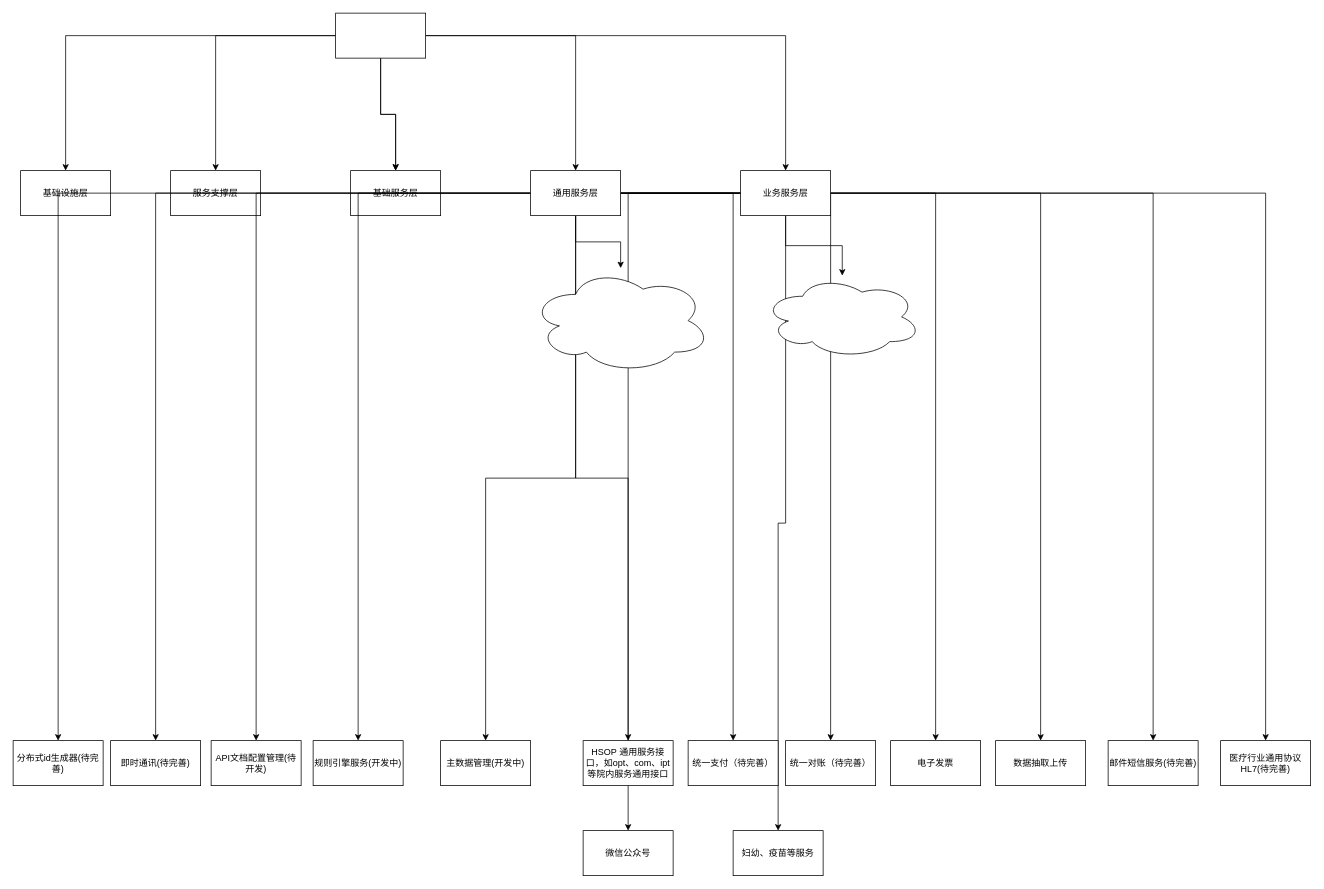
This 1324x889 diagram has some shape labels left out. Each missing label, with the centre of its shape:
"赛尔斯微服务平台" belongs at (380,35).
"通用服务层，是将一般业务功能开发都需要使用的功能进行封装，形成通用服务，提高开发效率，控制开发质量的一种方式。" belongs at (620,320).
"通过通用服务实现的业务逻辑部署在业务服务层，为前端应用提供服务" belongs at (841,316).
